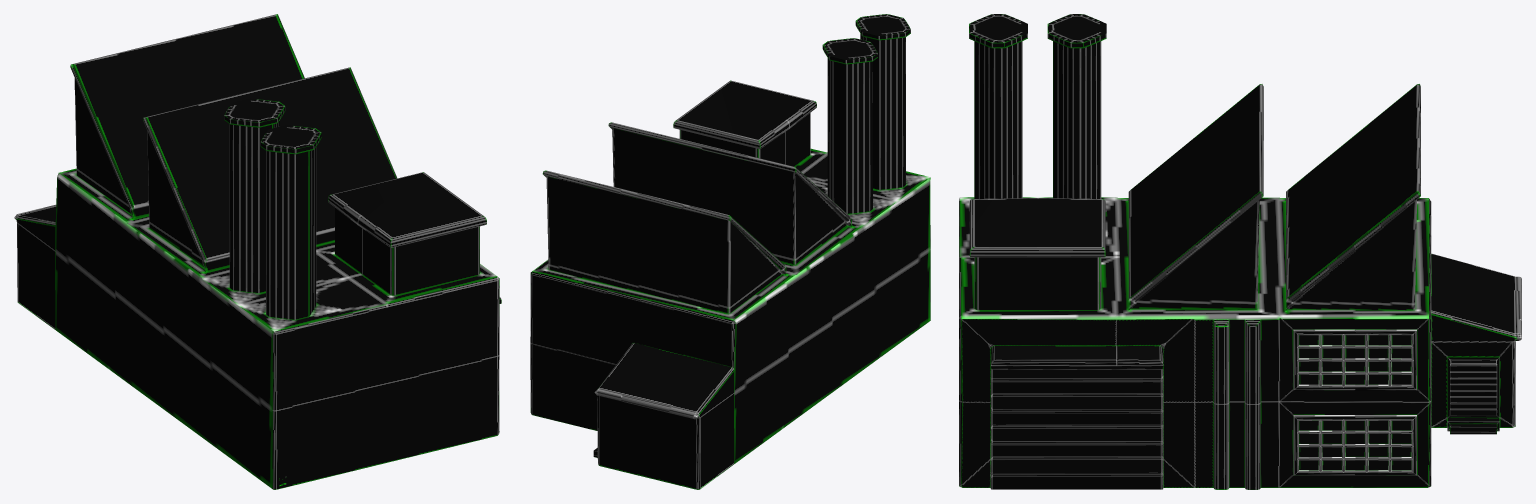
The model's file is Factory.FBX.
3 views of the same model, side by side, from view 1: azimuth 30°, elevation 25°; view 2: azimuth 150°, elevation 25°; view 3: azimuth 270°, elevation 25° (orthographic). The views are drawn at different scales.
Visible parts, largest first — view 1: Box001; view 2: Box001; view 3: Box001.
Part boxes in pixels (x1,y1,x2,y2): Box001: [14, 14, 501, 489]; Box001: [530, 14, 930, 489]; Box001: [959, 14, 1521, 489].
Size of the model in its own units: 1263 by 1648 by 2347.
